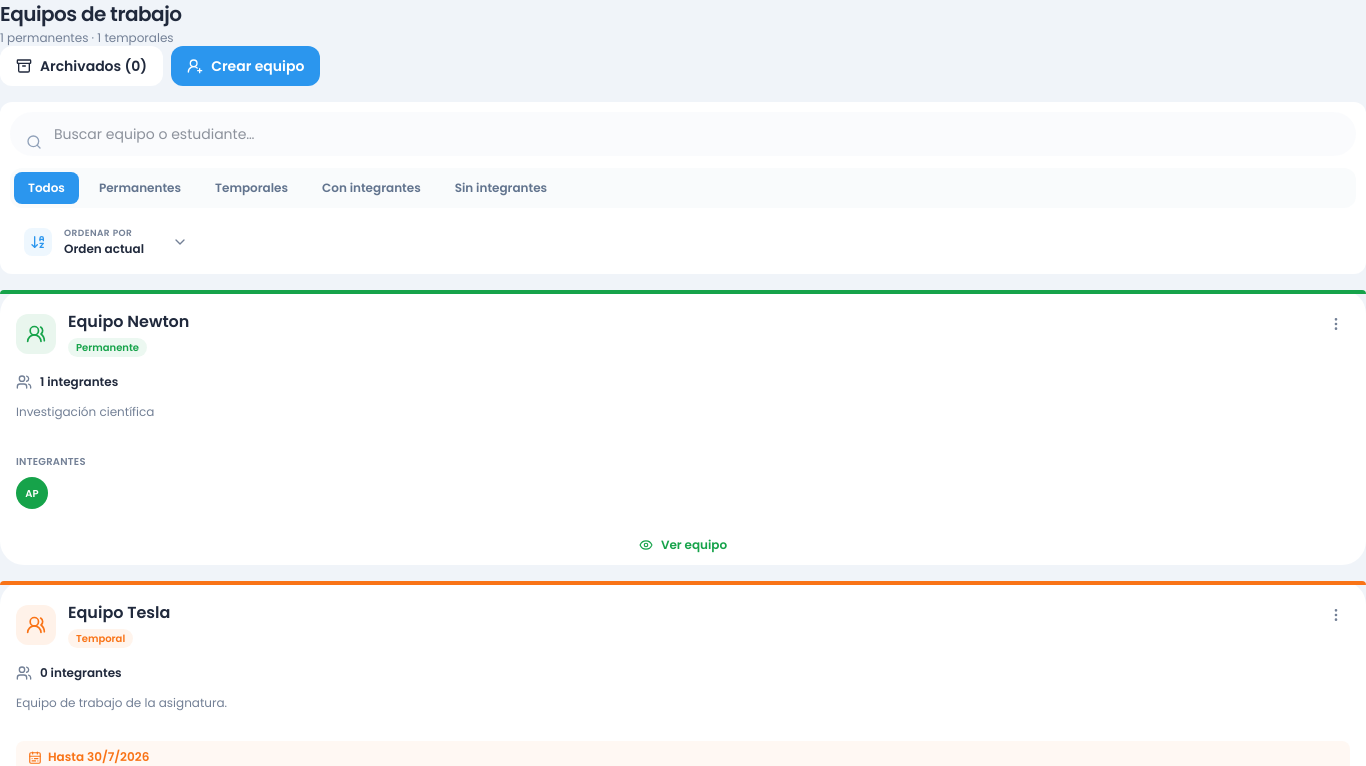
it: panel de equipos del curso › filtra por tipo y permite localizar un equipo por estudiante
Check: the heading "Equipo Newton" is shown, box [68,310,189,334]
Click the button "Temporales": (252, 188) [201,172,302,204]
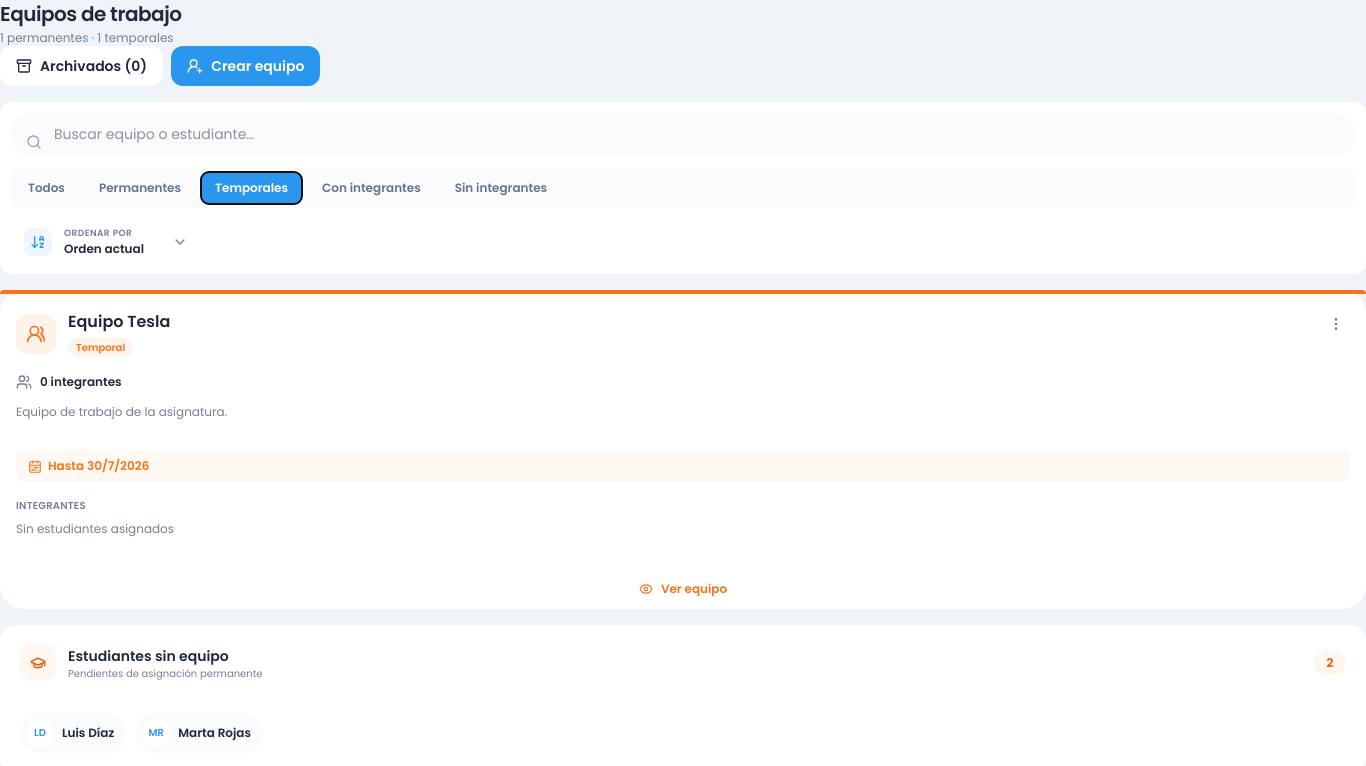
Check: the heading "Equipo Tesla" is shown, box [68,310,170,334]
Check: the heading "Equipo Newton" is gone
Click the button "Todos": (46, 188) [14,172,79,204]
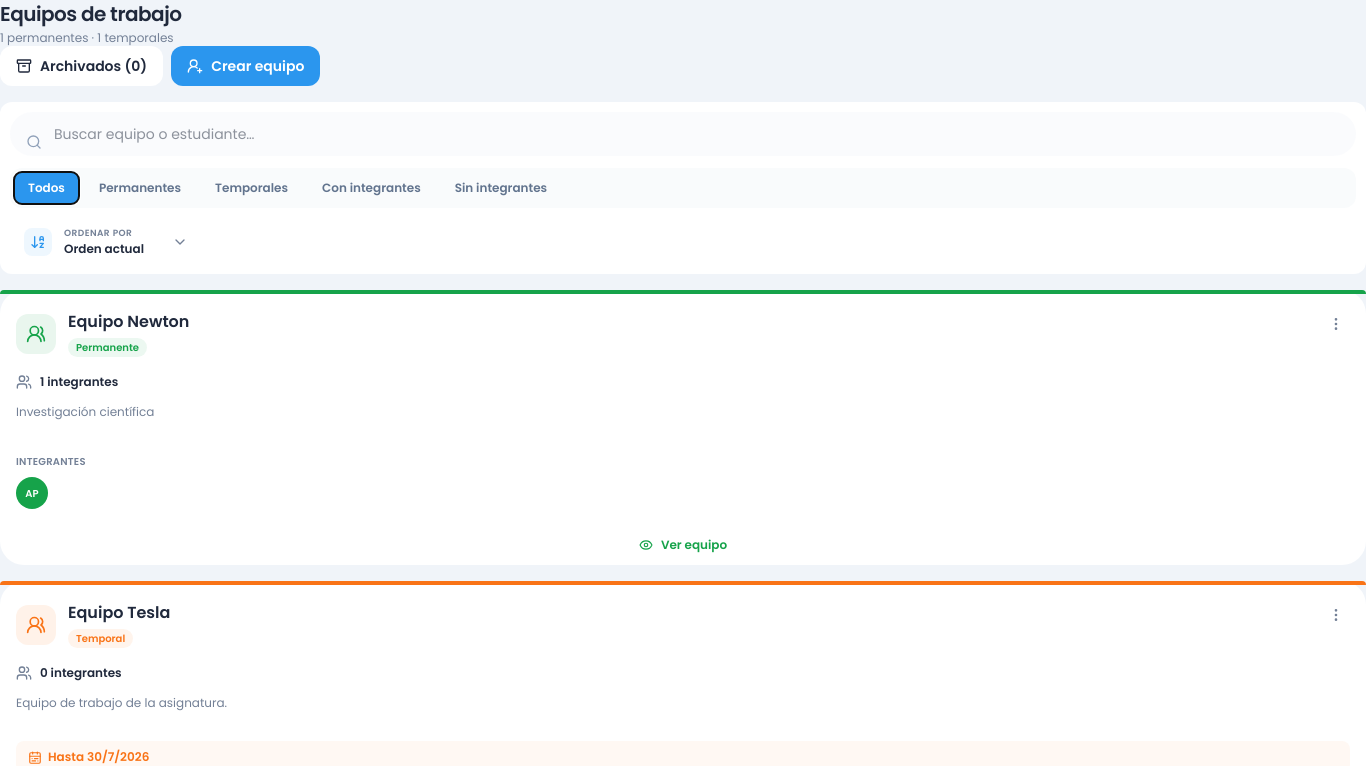
In the field with placeholder "Buscar equipo o estudiante…": (683, 134) [10,112,1356,156], type "Ana"
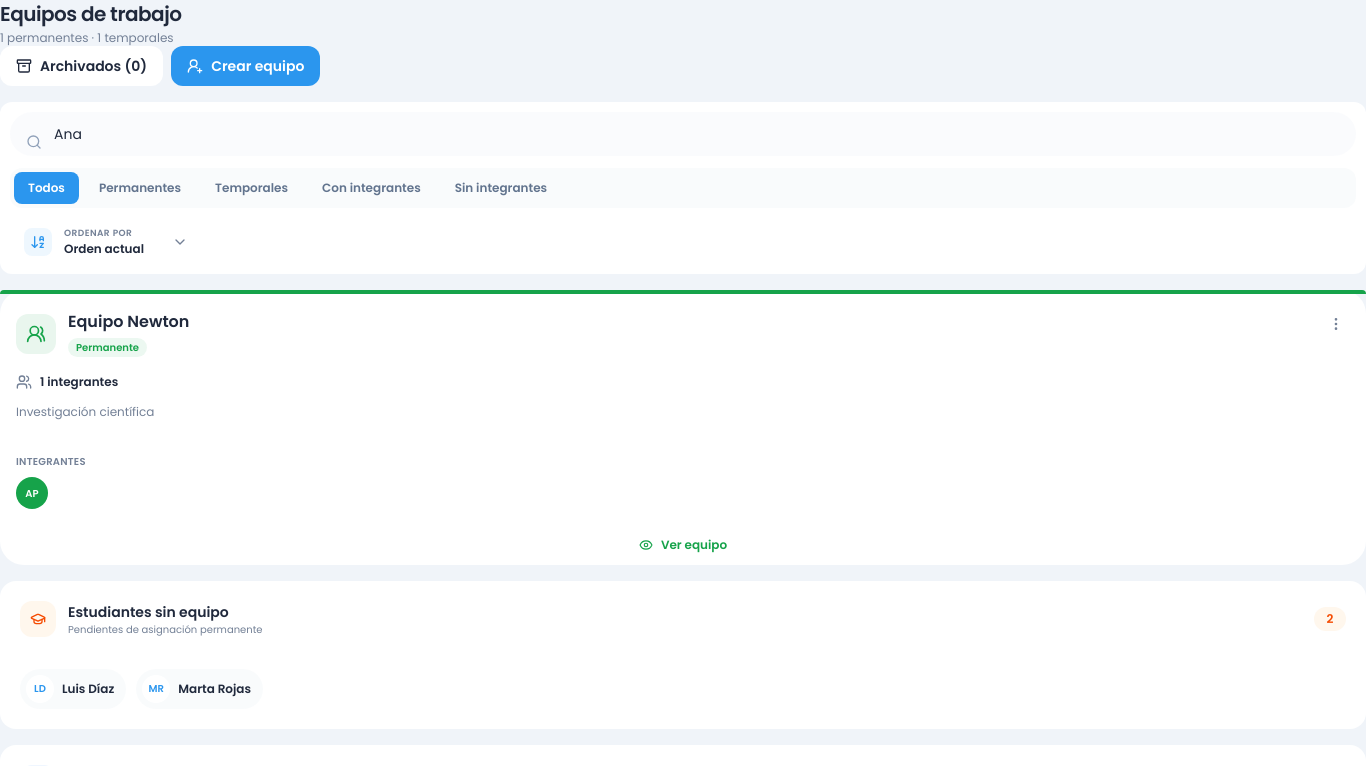
Check: the heading "Equipo Newton" is shown, box [68,310,189,334]
Check: the heading "Equipo Tesla" is gone
